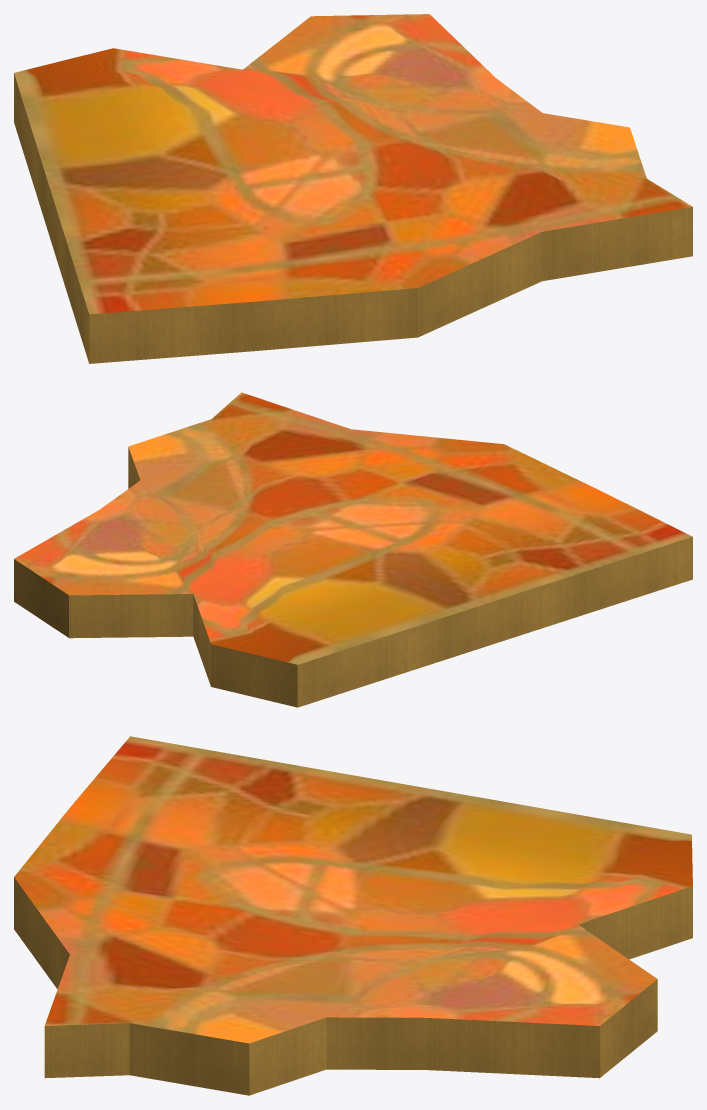
Rendered from lb_chunk_1_1.glb.
The picture shows the model from 3 angles, top to bottom: view 1: azimuth 30°, elevation 25°; view 2: azimuth 150°, elevation 25°; view 3: azimuth 270°, elevation 25°; orthographic projection. The views are drawn at different scales.
Visible parts, largest first — view 1: lb_chunk_1_1; view 2: lb_chunk_1_1; view 3: lb_chunk_1_1.
Part boxes in pixels (bbox=[...]): lb_chunk_1_1: bbox=[14, 14, 692, 363]; lb_chunk_1_1: bbox=[14, 392, 692, 707]; lb_chunk_1_1: bbox=[14, 736, 692, 1095].
Bounding box in the file's own units: 4.54 × 0.36 × 4.24.
Materials: 2 (2 with a texture image).
